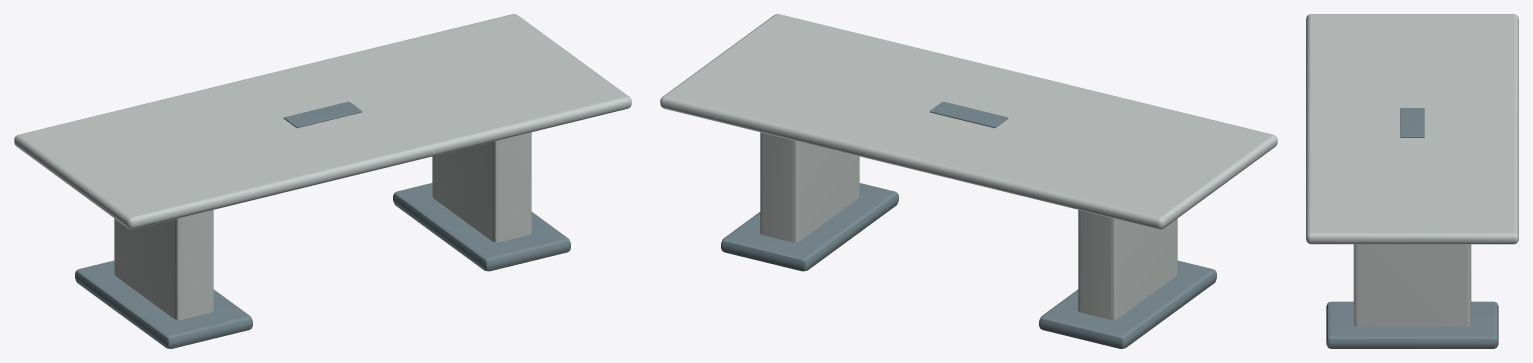
File: conference-table.glb
The picture shows the model from 3 angles, left to right: view 1: azimuth 30°, elevation 25°; view 2: azimuth 150°, elevation 25°; view 3: azimuth 270°, elevation 25°; orthographic projection. The views are drawn at different scales.
Parts seen in each view (by area): view 1: meeting_tabletop, pedestal, pedestal.001, pedestal_foot.001, pedestal_foot, cable_hatch; view 2: meeting_tabletop, pedestal, pedestal.001, pedestal_foot.001, pedestal_foot, cable_hatch; view 3: meeting_tabletop, pedestal.001, pedestal_foot.001, cable_hatch.
Boxes of the visible parts, bbox=[...] form: meeting_tabletop: bbox=[14, 14, 631, 229]; pedestal: bbox=[114, 210, 213, 319]; pedestal.001: bbox=[432, 132, 531, 242]; pedestal_foot.001: bbox=[393, 183, 570, 271]; pedestal_foot: bbox=[75, 260, 252, 348]; cable_hatch: bbox=[283, 101, 362, 128]; meeting_tabletop: bbox=[660, 14, 1277, 229]; pedestal: bbox=[1078, 210, 1177, 319]; pedestal.001: bbox=[760, 132, 859, 242]; pedestal_foot.001: bbox=[721, 183, 898, 271]; pedestal_foot: bbox=[1039, 260, 1216, 348]; cable_hatch: bbox=[929, 101, 1008, 128]; meeting_tabletop: bbox=[1306, 14, 1518, 244]; pedestal.001: bbox=[1353, 244, 1471, 327]; pedestal_foot.001: bbox=[1326, 301, 1498, 348]; cable_hatch: bbox=[1400, 108, 1424, 137].
Bounding box in the file's own units: 2.6 × 0.758 × 1.05.
